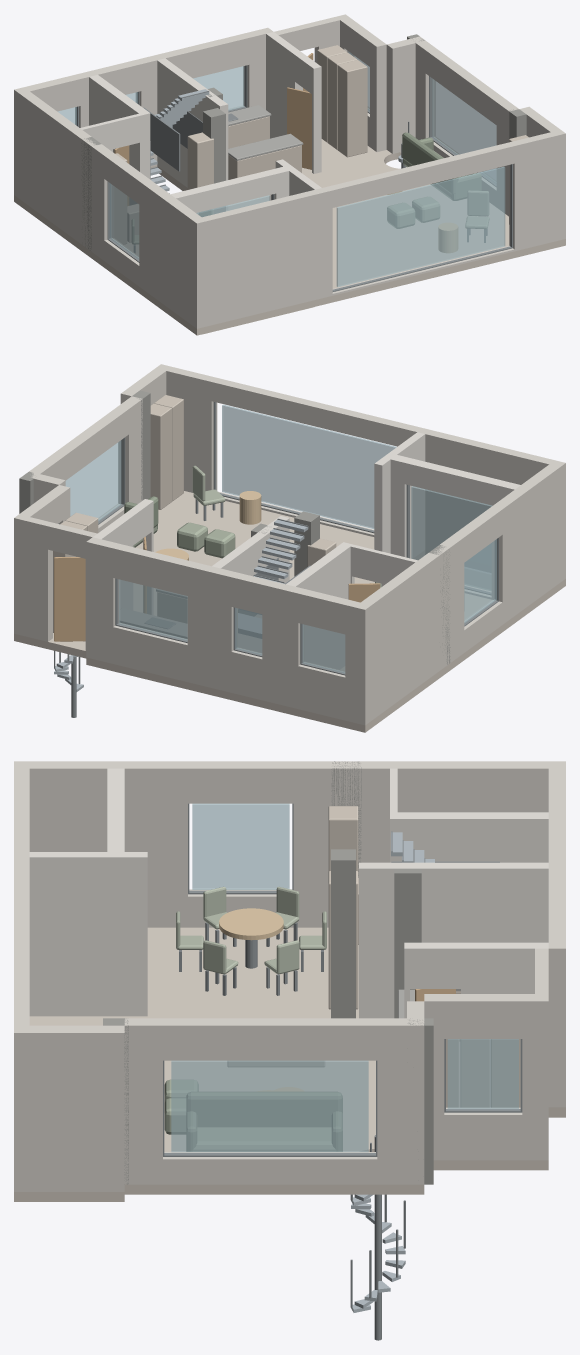
Rendered from ground-floor.glb.
3 views of the same model, one above another, from view 1: azimuth 30°, elevation 25°; view 2: azimuth 150°, elevation 25°; view 3: azimuth 270°, elevation 25° (orthographic). The views are drawn at different scales.
Parts seen in each view (by area): view 1: F1_Slab, F1_ExtWall_00_P00, F1_ExtWall_00_sliding_01_Glass, F1_ExtWall_09_P00, F1_ExtWall_09_P01, F1_ExtWall_00_P01, F1_ExtWall_00_Header_01, F1_ExtWall_03_window_01_Glass, F1_ExtWall_04_P00, F1_Entry_Tall_Cabinets_M01, F1_Stair_Kitchen_P00, F1_Bath_Stair_P00 (+51 smaller); view 2: F1_ExtWall_00_sliding_01_Glass, F1_ExtWall_09_P00, F1_Slab, F1_ExtWall_09_P01, F1_ExtWall_00_P00, F1_ExtWall_08_P01, F1_ExtWall_00_Header_01, F1_ExtWall_08_P02, F1_Atrium_North_sliding_01_Glass, F1_ExtWall_00_P01, F1_ExtWall_06_P00, F1_Bath_Stair_P00 (+47 smaller); view 3: F1_Slab, F1_Atrium_East_P00, F1_ExtWall_03_window_01_Glass, F1_ExtWall_09_P00, F1_ExtWall_09_P01, F1_Stair_Kitchen_P00, F1_ExtWall_01_P00, F1_ExtWall_03_Header_01, F1_ExtWall_09_window_01_Glass, F1_Bath_Stair_P00, F1_ExtWall_03_P00, F1_ExtWall_03_Sill_01 (+37 smaller).
Part boxes in pixels (<box>): F1_Slab: <box>14,139,565,335</box>; F1_ExtWall_00_P00: <box>191,186,332,328</box>; F1_ExtWall_00_sliding_01_Glass: <box>336,166,505,286</box>; F1_ExtWall_09_P00: <box>14,87,113,260</box>; F1_ExtWall_09_P01: <box>139,179,206,328</box>; F1_ExtWall_00_P01: <box>509,130,565,251</box>; F1_ExtWall_00_Header_01: <box>328,142,514,207</box>; F1_ExtWall_03_window_01_Glass: <box>432,78,496,182</box>; F1_ExtWall_04_P00: <box>386,37,424,153</box>; F1_Entry_Tall_Cabinets_M01: <box>337,60,367,157</box>; F1_Stair_Kitchen_P00: <box>157,58,228,209</box>; F1_Bath_Stair_P00: <box>89,75,150,205</box>; F1_ExtWall_00_sliding_01_Glass: <box>222,404,396,528</box>; F1_ExtWall_09_P00: <box>354,534,464,723</box>; F1_Slab: <box>14,491,565,732</box>; F1_ExtWall_09_P01: <box>492,460,565,624</box>; F1_ExtWall_00_P00: <box>411,426,565,580</box>; F1_ExtWall_08_P01: <box>187,562,237,692</box>; F1_ExtWall_00_Header_01: <box>211,378,416,446</box>; F1_ExtWall_08_P02: <box>262,580,304,708</box>; F1_Atrium_North_sliding_01_Glass: <box>411,486,492,590</box>; F1_ExtWall_00_P01: <box>156,364,217,492</box>; F1_ExtWall_06_P00: <box>15,516,52,641</box>; F1_Bath_Stair_P00: <box>286,542,352,669</box>; F1_Slab: <box>14,927,565,1201</box>; F1_Atrium_East_P00: <box>29,852,147,1016</box>; F1_ExtWall_03_window_01_Glass: <box>171,1060,368,1152</box>; F1_ExtWall_09_P00: <box>293,761,565,927</box>; F1_ExtWall_09_P01: <box>14,761,187,927</box>; F1_Stair_Kitchen_P00: <box>359,862,548,1018</box>; F1_ExtWall_01_P00: <box>14,1025,124,1191</box>; F1_ExtWall_03_Header_01: <box>163,1018,377,1060</box>; F1_ExtWall_09_window_01_Glass: <box>192,803,289,889</box>; F1_Bath_Stair_P00: <box>390,812,548,862</box>; F1_ExtWall_03_P00: <box>124,1018,162,1184</box>; F1_ExtWall_03_Sill_01: <box>163,1152,377,1184</box>.
Bounding box in the file's own units: 10.34 × 6.17 × 8.88.
